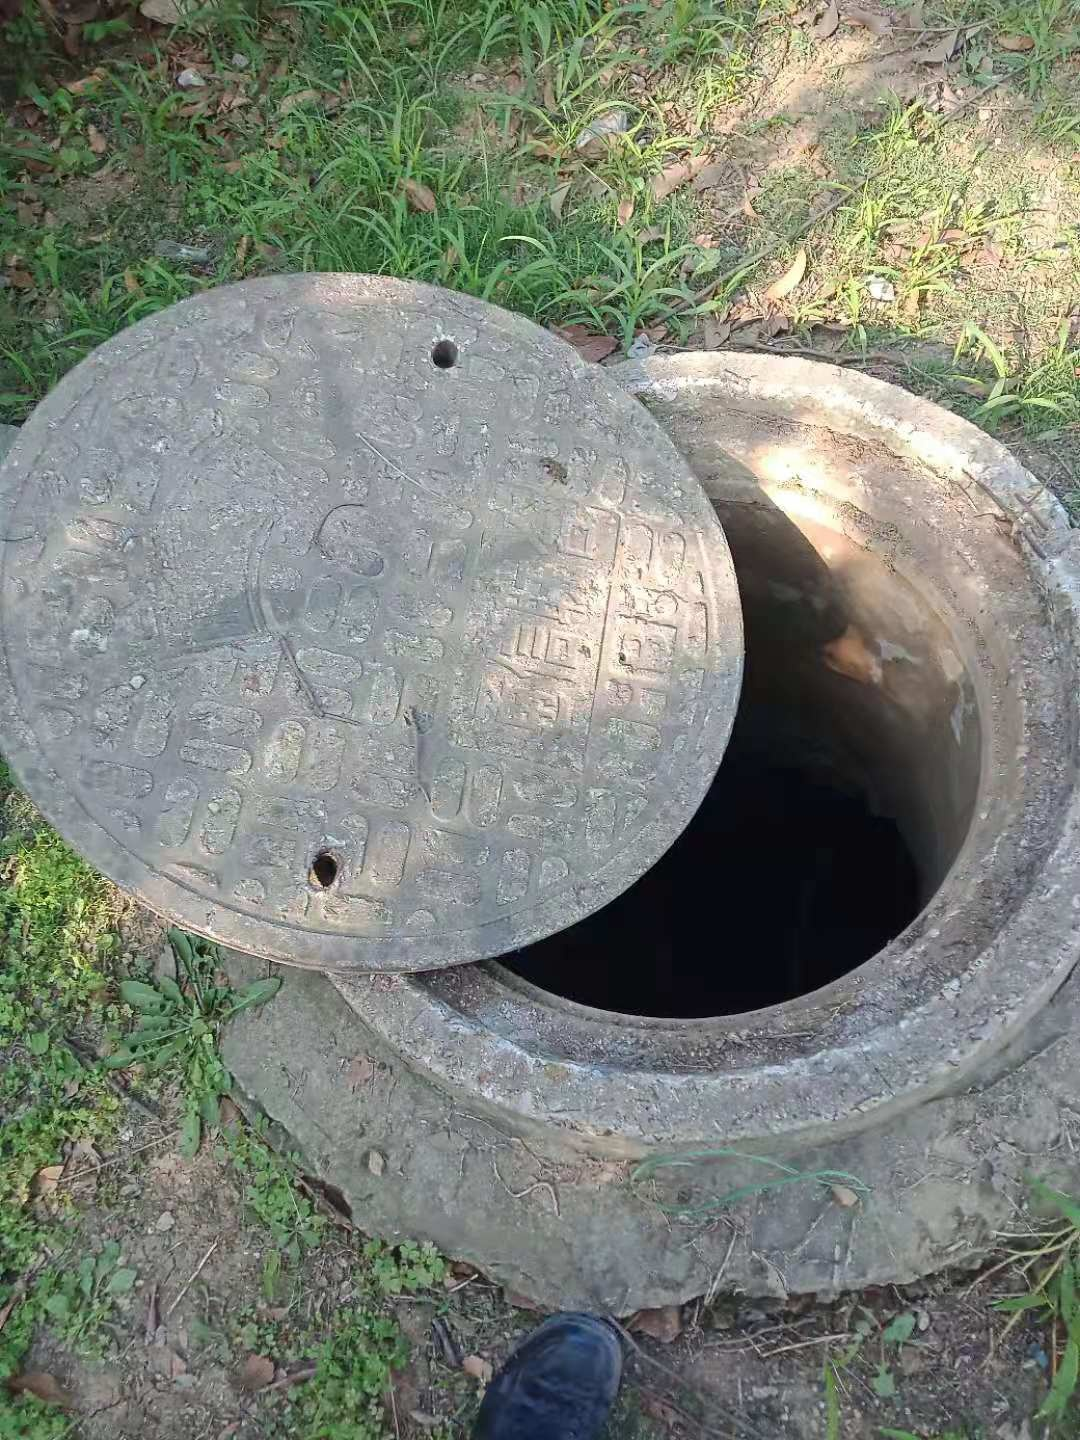uncovered: (12, 266, 1080, 1150)
